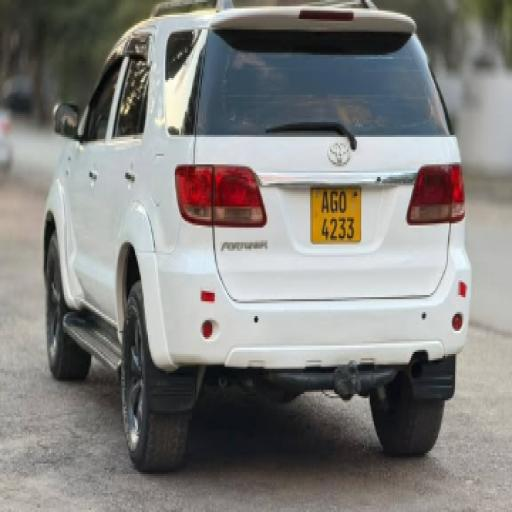number-plates: (311, 186, 361, 243)
